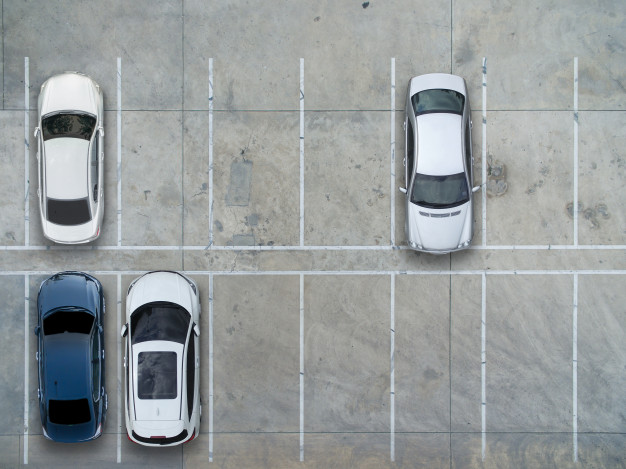Car: (125, 270, 203, 452), (32, 67, 107, 247), (402, 72, 474, 258), (39, 272, 108, 444)
LaneMark: (198, 268, 626, 278), (98, 242, 390, 252), (205, 266, 217, 469), (386, 270, 398, 469), (477, 270, 489, 469), (20, 272, 32, 469), (570, 268, 581, 469), (115, 267, 126, 466), (205, 55, 216, 248), (21, 54, 31, 251), (297, 54, 307, 240), (298, 269, 307, 465), (389, 55, 398, 246), (572, 54, 581, 245), (479, 243, 624, 254), (116, 56, 123, 249), (481, 54, 488, 245)
